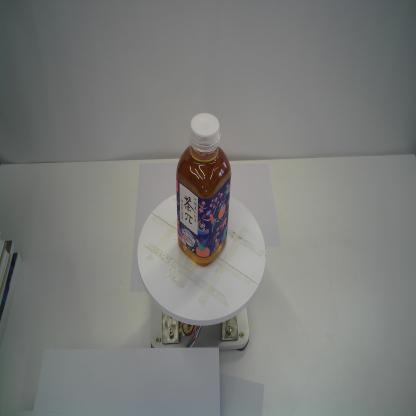Drink: (175, 112, 232, 268)
